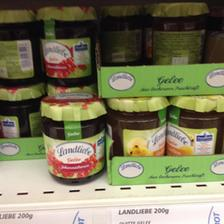Marmelade: (39, 92, 107, 184), (36, 4, 96, 84), (144, 0, 208, 64), (109, 96, 167, 156), (165, 96, 223, 152), (1, 6, 40, 86), (0, 84, 42, 136)
